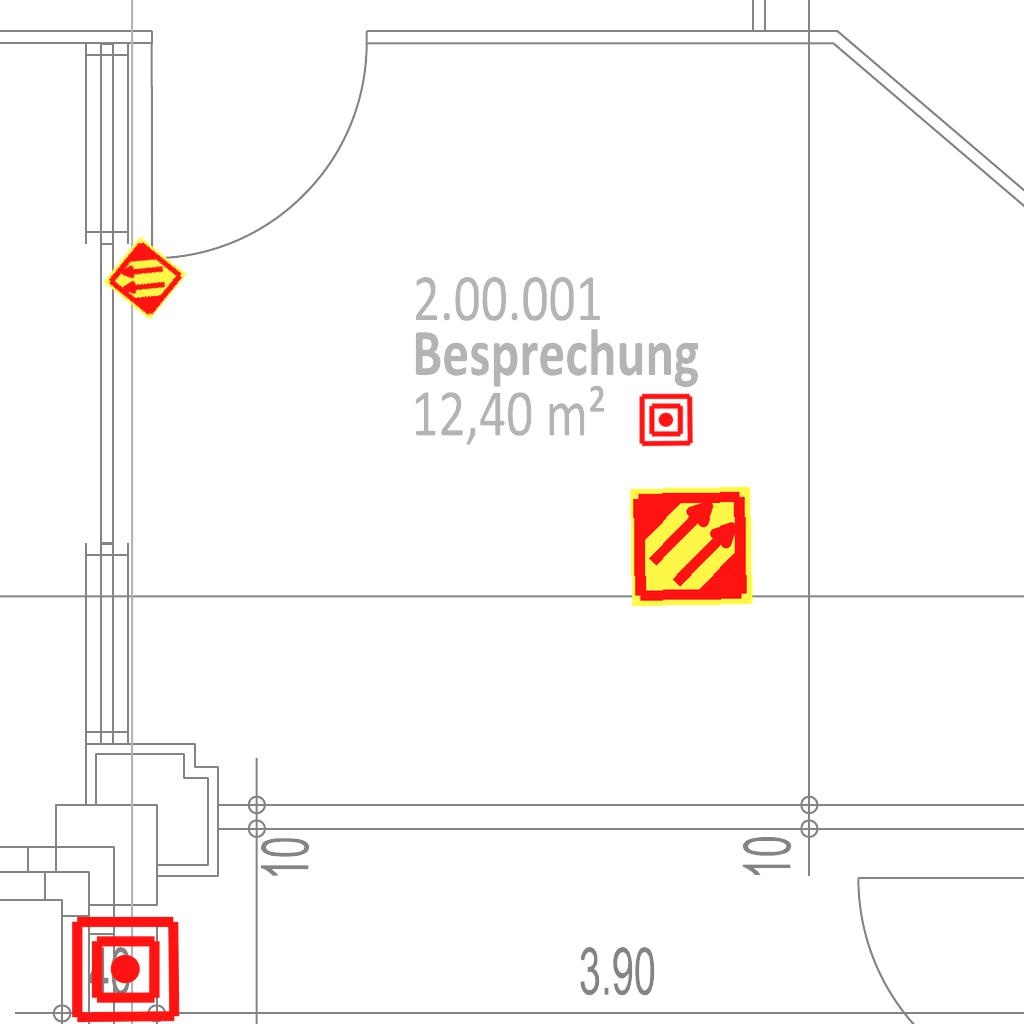ASR_Ansaugrauchmelder: (627, 482, 756, 611), (101, 234, 189, 322)
NAM-Nichtautomatischer_Melder: (69, 913, 182, 1024), (638, 392, 694, 448)
